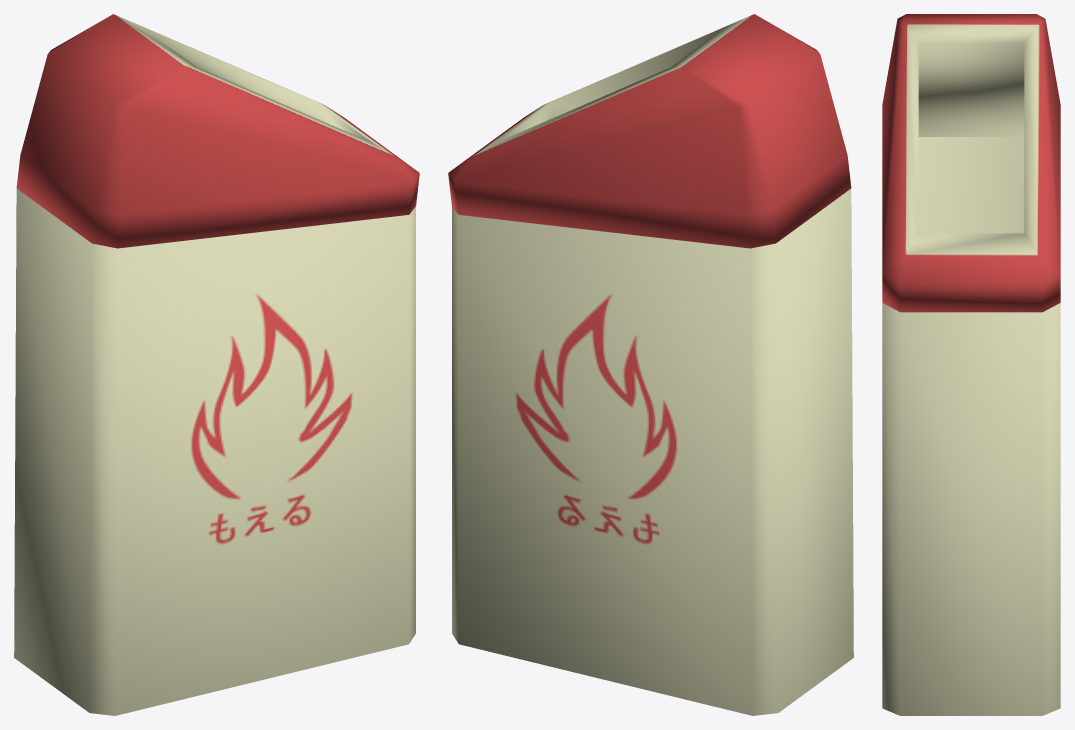
File: trashbox_c02.fbx
3 renders of one model, left to right at view 1: azimuth 30°, elevation 25°; view 2: azimuth 150°, elevation 25°; view 3: azimuth 270°, elevation 25°, orthographic. The views are drawn at different scales.
Parts seen in each view (by area): view 1: trashbox_c02, trashbox_c02_lid; view 2: trashbox_c02, trashbox_c02_lid; view 3: trashbox_c02, trashbox_c02_lid.
Part boxes in pixels (x1,y1,x2,y2): trashbox_c02: (14,188,415,715); trashbox_c02_lid: (16,14,419,248); trashbox_c02: (452,188,853,715); trashbox_c02_lid: (448,14,851,248); trashbox_c02: (882,137,1060,715); trashbox_c02_lid: (882,14,1060,312).
Bounding box in the file's own units: 40.46 × 72.72 × 20.
Materials: 1 (1 with a texture image).
